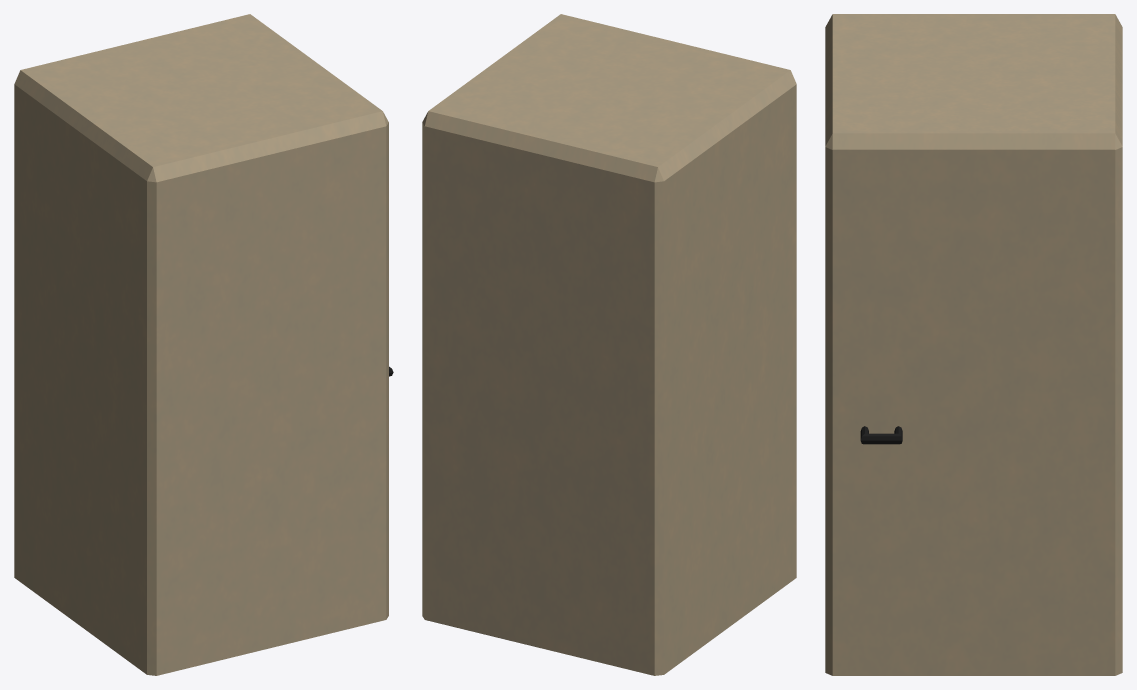
File: fridge.fbx
3 renders of one model, left to right at view 1: azimuth 30°, elevation 25°; view 2: azimuth 150°, elevation 25°; view 3: azimuth 270°, elevation 25°, orthographic. The views are drawn at different scales.
Visible parts, largest first — view 1: Cube; view 2: Cube; view 3: Cube, Torus.
Part boxes in pixels (x1,y1,x2,y2): Cube: [14, 14, 388, 675]; Cube: [422, 14, 796, 675]; Cube: [825, 14, 1122, 675]; Torus: [860, 426, 902, 444].
Bounding box in the file's own units: 107 × 200 × 100.
Materials: 2 (1 with a texture image).
